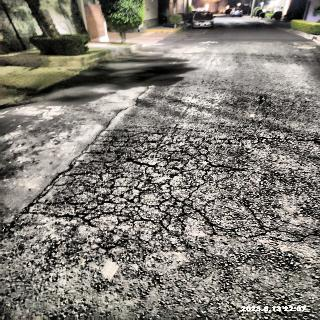alligator-crack: (139, 132, 296, 246), (27, 133, 151, 242), (208, 257, 319, 320)
crack: (0, 244, 119, 320), (227, 126, 320, 148)
